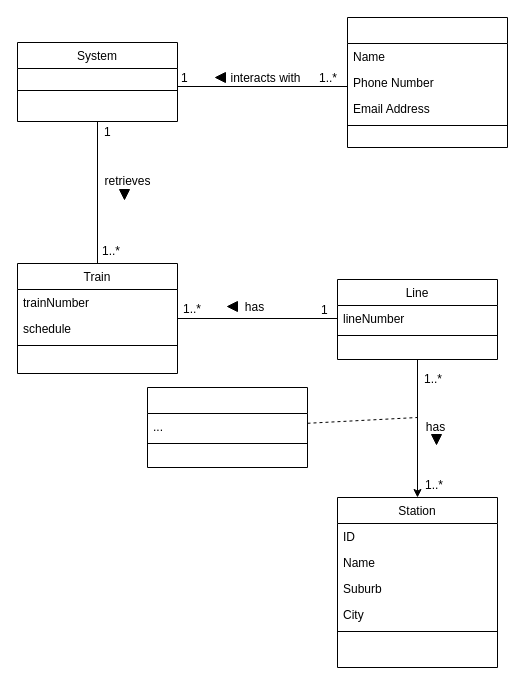
Image size: 525x685. Some labels were removed from this diagram. Each missing label, with the box of its shape:
Link: (146, 386, 308, 468)
Person: (346, 16, 508, 148)
